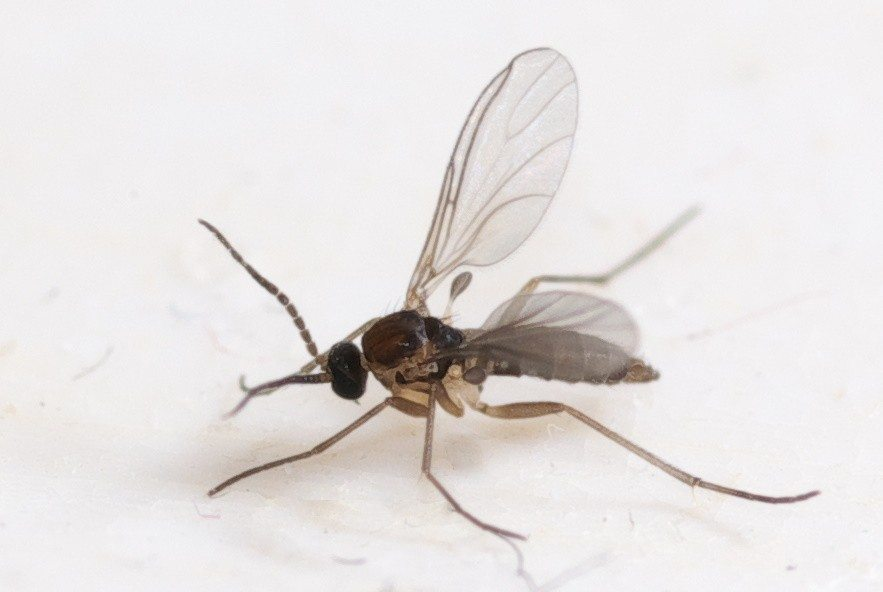Fruit fly: (178, 120, 717, 553)
